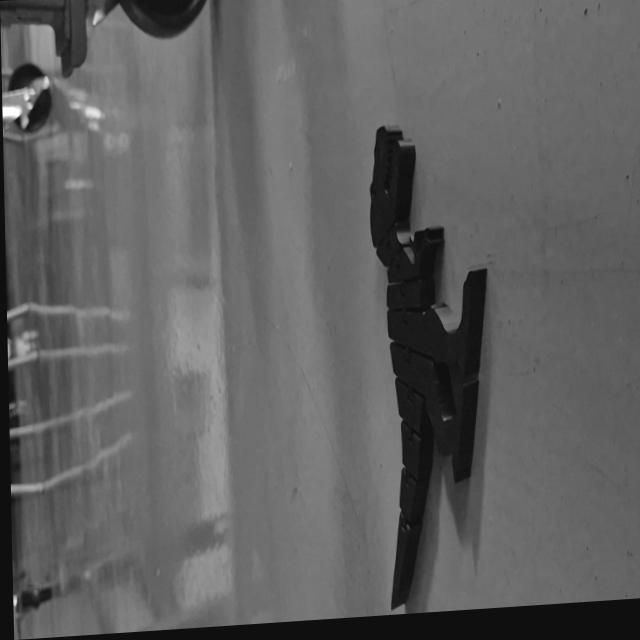dino: (368, 116, 497, 612)
